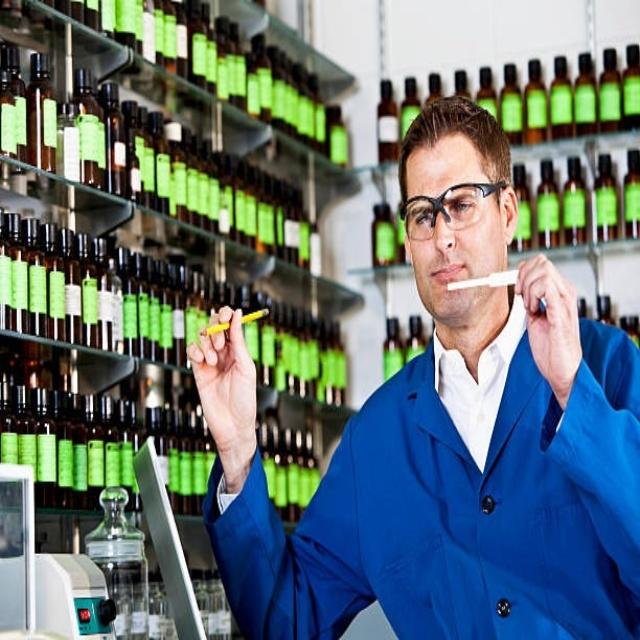Gafas: (398, 181, 509, 241)
Sin_guantes: (185, 304, 259, 465), (515, 252, 582, 395)
Sin_mascara: (425, 253, 474, 312)
